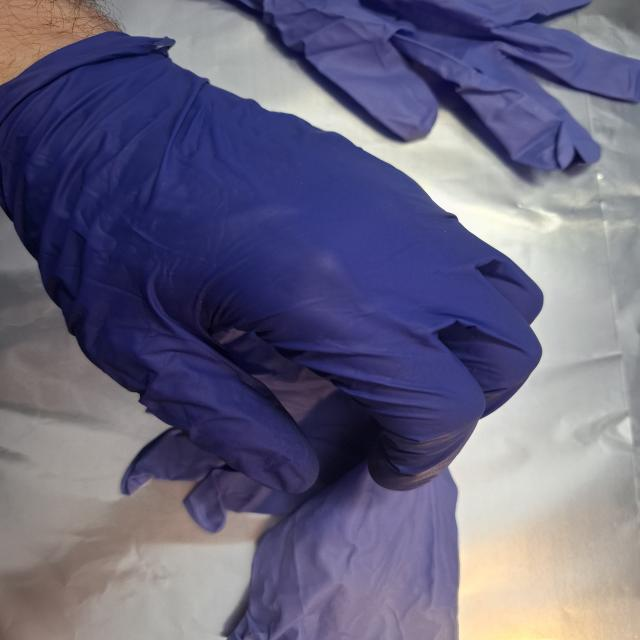glove_on: (0, 26, 549, 497)
